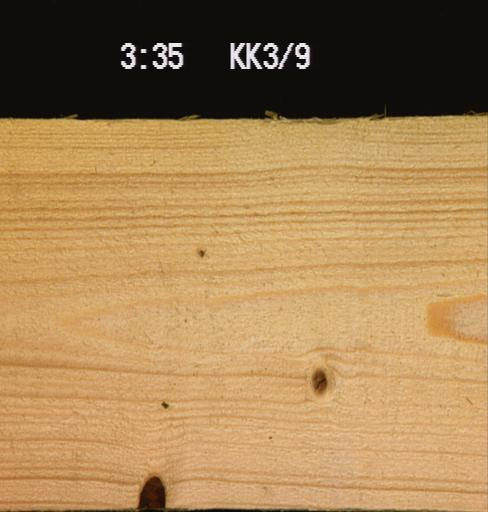small_knot: (194, 246, 207, 258)
sound_knot: (307, 366, 329, 396)
